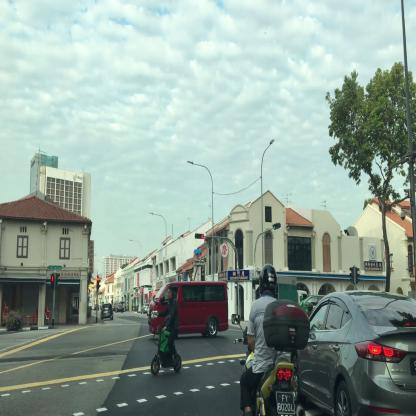red_traffic_light: (195, 233, 204, 238), (96, 276, 98, 289)
